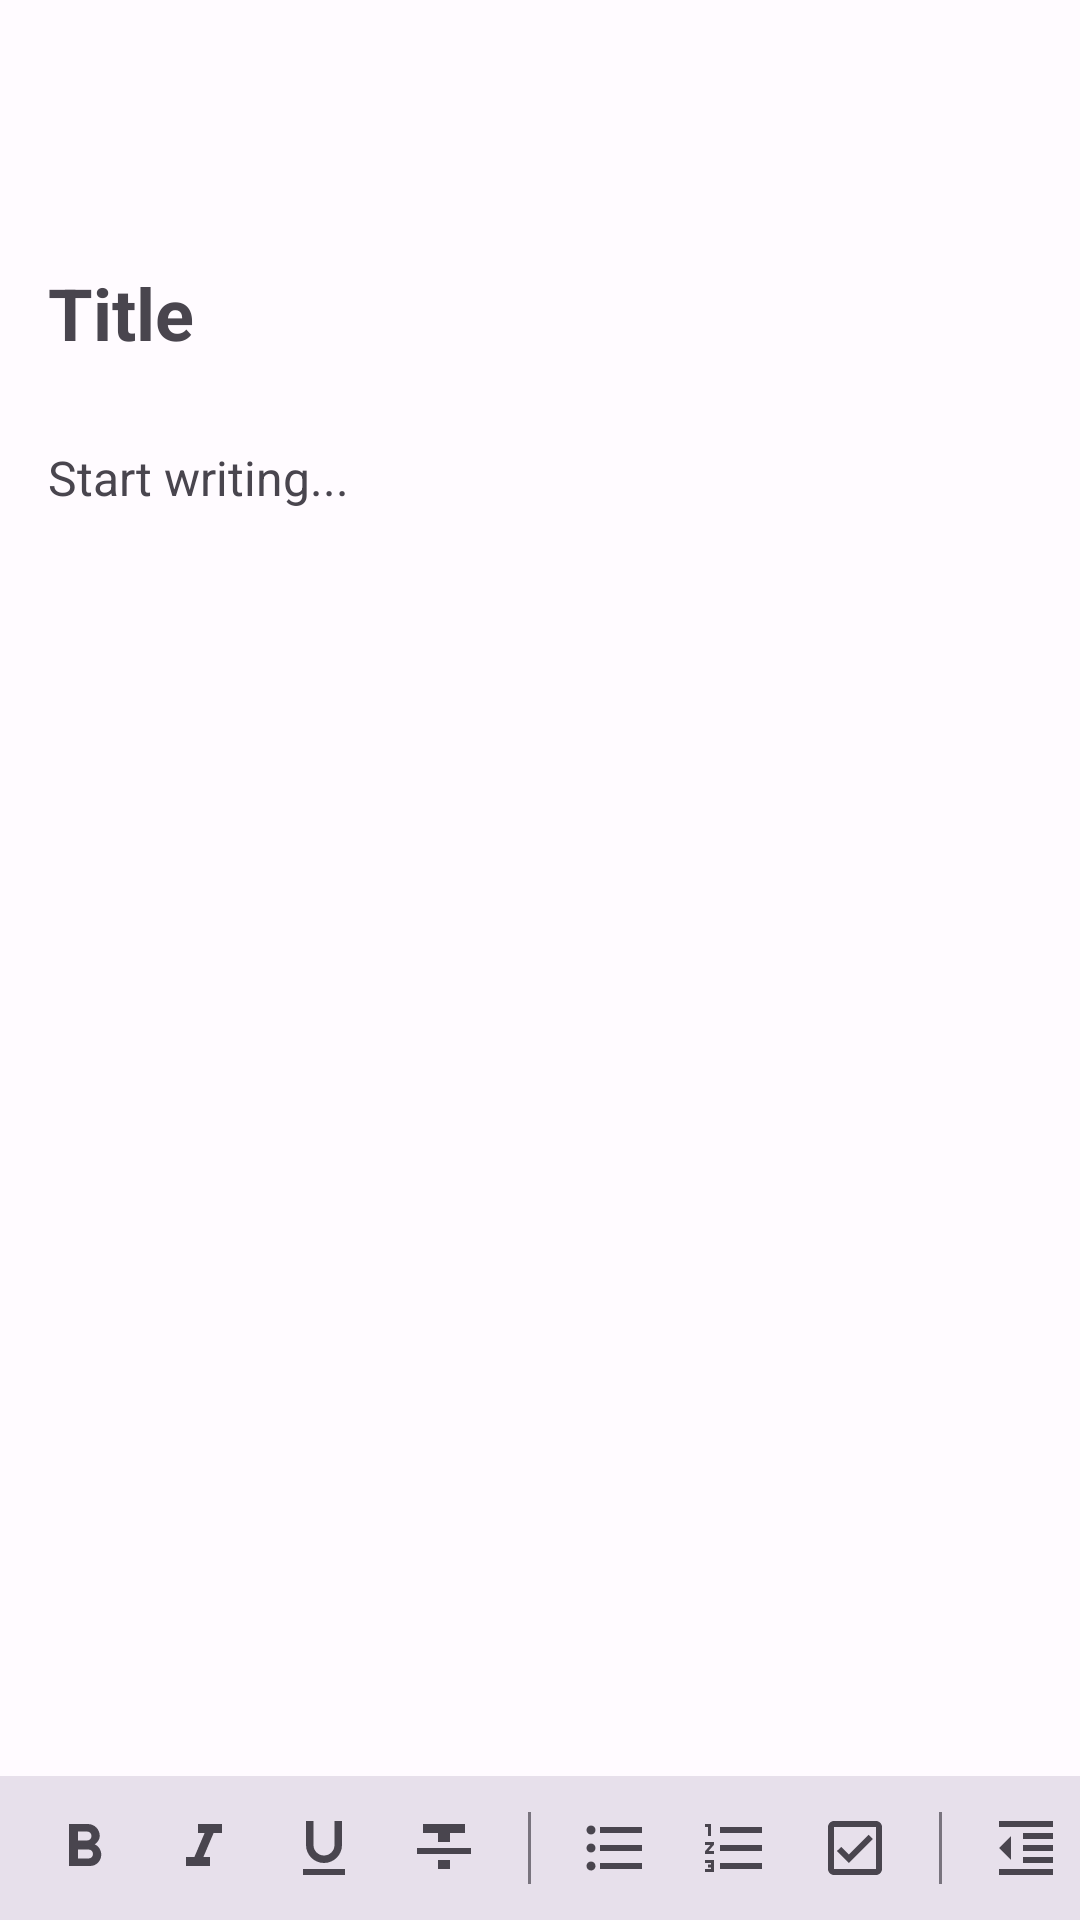

Point at icon controls on the screen. Image size 1080 × 1920, points as point (x, y).
Bold: point (85, 1845)
Bullet list: point (614, 1848)
Checkbox: point (855, 1848)
Decrease indent: point (1026, 1848)
Italic: point (204, 1845)
Numbered list: point (733, 1848)
Strikethrough: point (444, 1846)
Underline: point (324, 1848)
